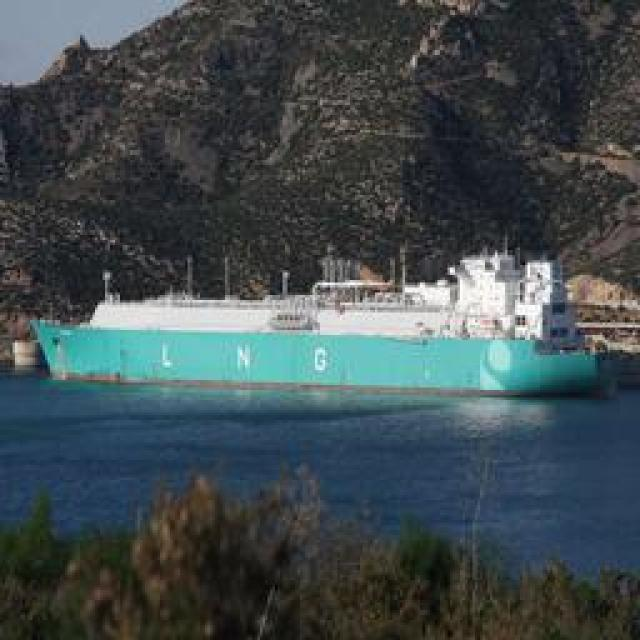ship2: (35, 243, 597, 395)
